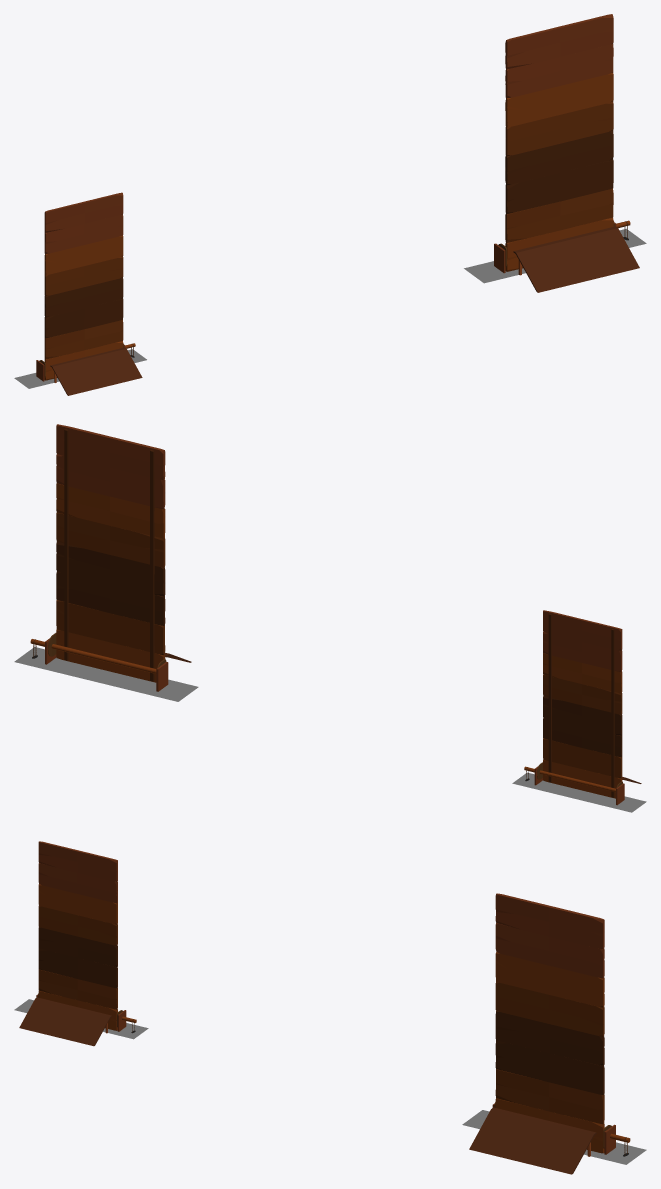
File: FBX_INT_RUIN_Zugrbrücke.fbx
3 views of the same model, one above another, from view 1: azimuth 30°, elevation 25°; view 2: azimuth 150°, elevation 25°; view 3: azimuth 330°, elevation 25° (orthographic).
Parts seen in each view (by area): view 1: Cube.008, Cube.031, Cube.027, Cube.026, Cube.017, Cube.025, Cube.024, Cube.018, Cube.019, Cube.023; view 2: Cube.008, Cube.027, Cube.024, Cube.017, Cube.026, Cube.019, Cube.018, Cube.025, Plane.002, Cube.023, Cube.020, Cube.021; view 3: Cube.008, Cube.031, Cube.027, Cube.026, Cube.017, Cube.025, Cube.019, Cube.024, Cube.018, Cube.023, Plane.002.
Part boxes in pixels (<box>): Cube.008: <box>464,14,646,292</box>; Cube.031: <box>50,347,142,395</box>; Cube.027: <box>44,192,123,232</box>; Cube.026: <box>44,214,123,253</box>; Cube.017: <box>44,319,123,359</box>; Cube.025: <box>44,235,123,275</box>; Cube.024: <box>44,256,123,296</box>; Cube.018: <box>44,298,123,338</box>; Cube.019: <box>44,277,123,317</box>; Cube.023: <box>44,341,123,380</box>; Cube.008: <box>14,424,198,701</box>; Cube.027: <box>543,610,622,650</box>; Cube.024: <box>543,674,622,714</box>; Cube.017: <box>543,738,622,778</box>; Cube.026: <box>543,632,622,672</box>; Cube.019: <box>543,695,622,735</box>; Cube.018: <box>543,717,622,757</box>; Cube.025: <box>543,653,622,693</box>; Plane.002: <box>512,772,646,812</box>; Cube.023: <box>543,759,622,798</box>; Cube.020: <box>611,629,614,797</box>; Cube.021: <box>548,613,551,782</box>; Cube.008: <box>462,893,646,1174</box>; Cube.031: <box>19,997,112,1046</box>; Cube.027: <box>38,841,117,881</box>; Cube.026: <box>38,863,117,903</box>; Cube.017: <box>38,969,117,1009</box>; Cube.025: <box>38,884,117,924</box>; Cube.019: <box>38,927,117,966</box>; Cube.024: <box>38,906,117,945</box>; Cube.018: <box>38,948,117,988</box>; Cube.023: <box>38,990,117,1030</box>; Plane.002: <box>14,999,148,1039</box>.
Size of the model in its own units: 1186 by 433 by 148.
